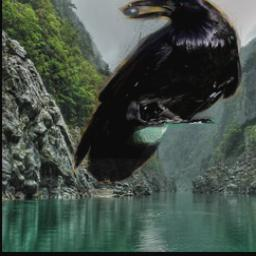Crow: (73, 0, 243, 184)
